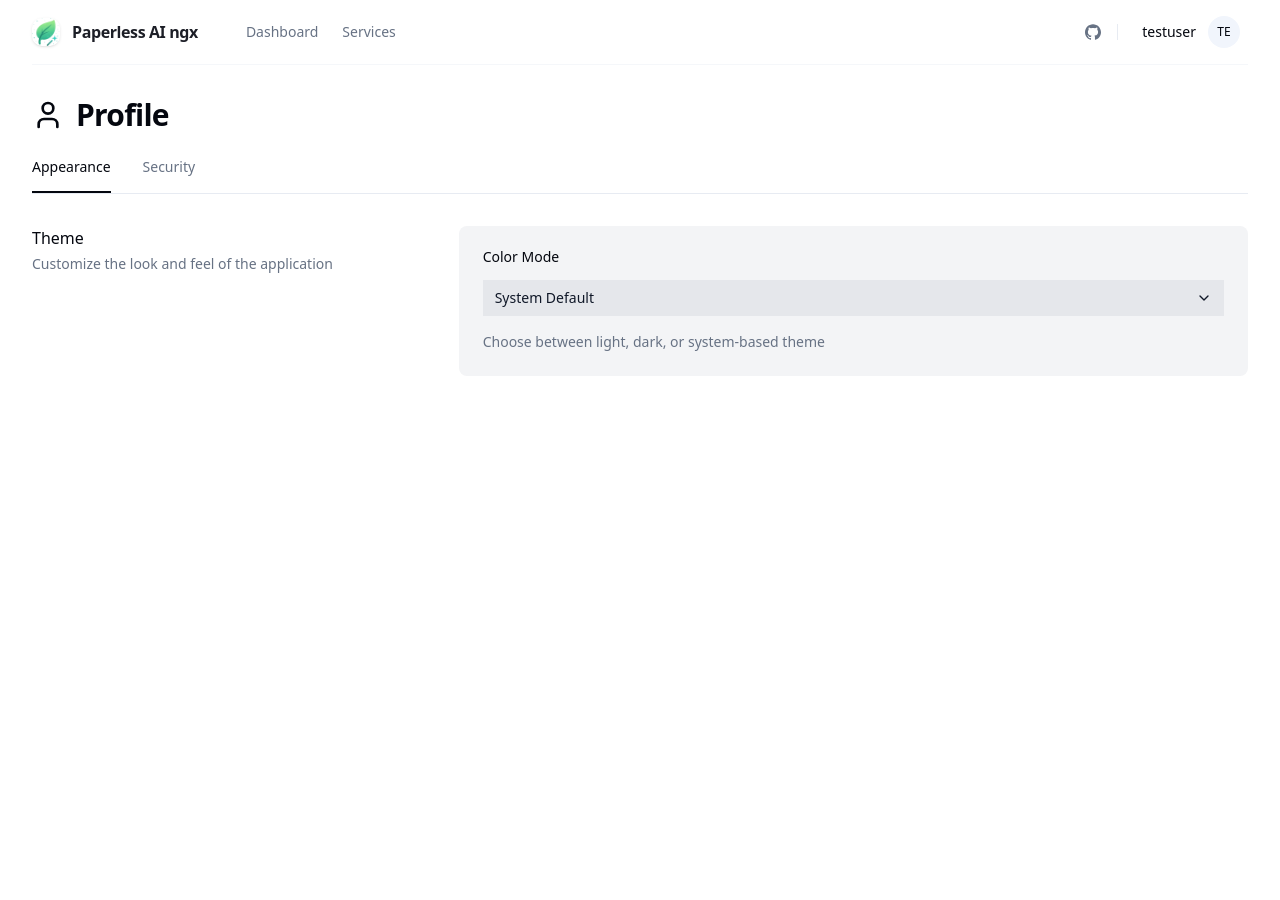
Test: ProfilePage › shows passkeys section in security tab
Click the tab "Security" at (169,175), box [142,157,195,193]
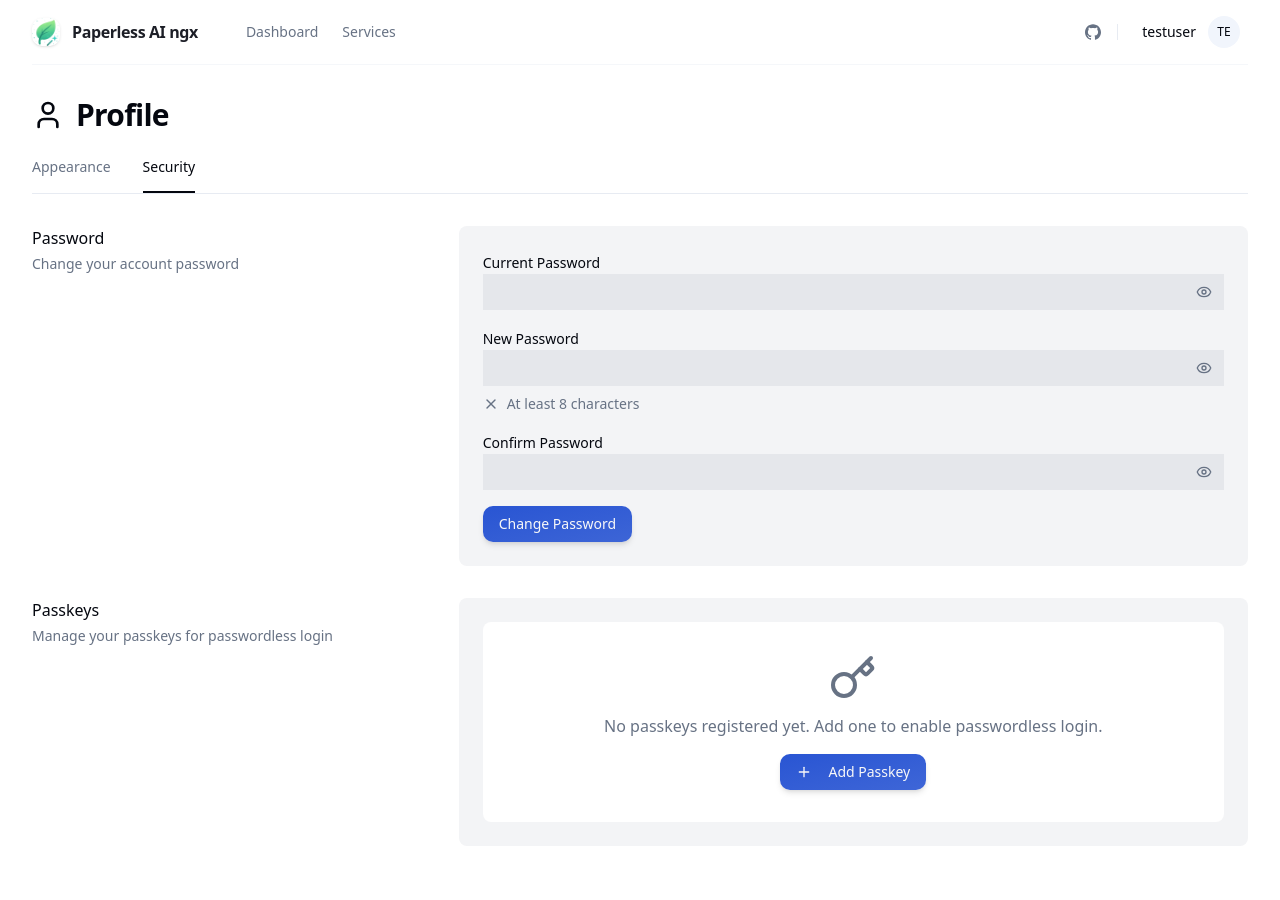
Expected: the heading "Passkeys" is shown, [32,599,99,621]
